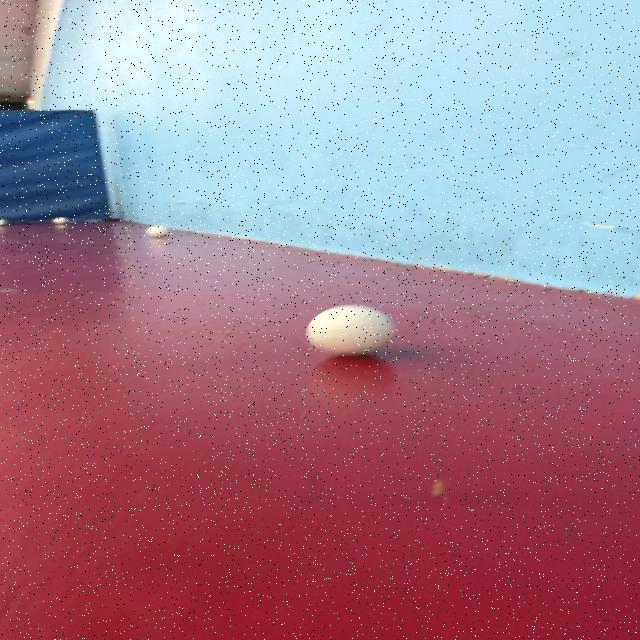ping-pong-ball: (291, 294, 419, 369), (42, 208, 81, 231), (143, 220, 177, 246)
